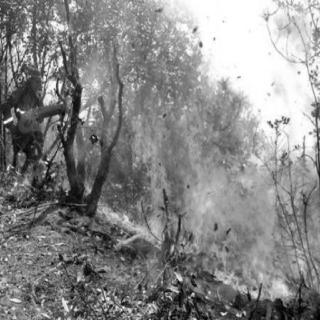Fire: (89, 57, 318, 301), (263, 0, 315, 79)
